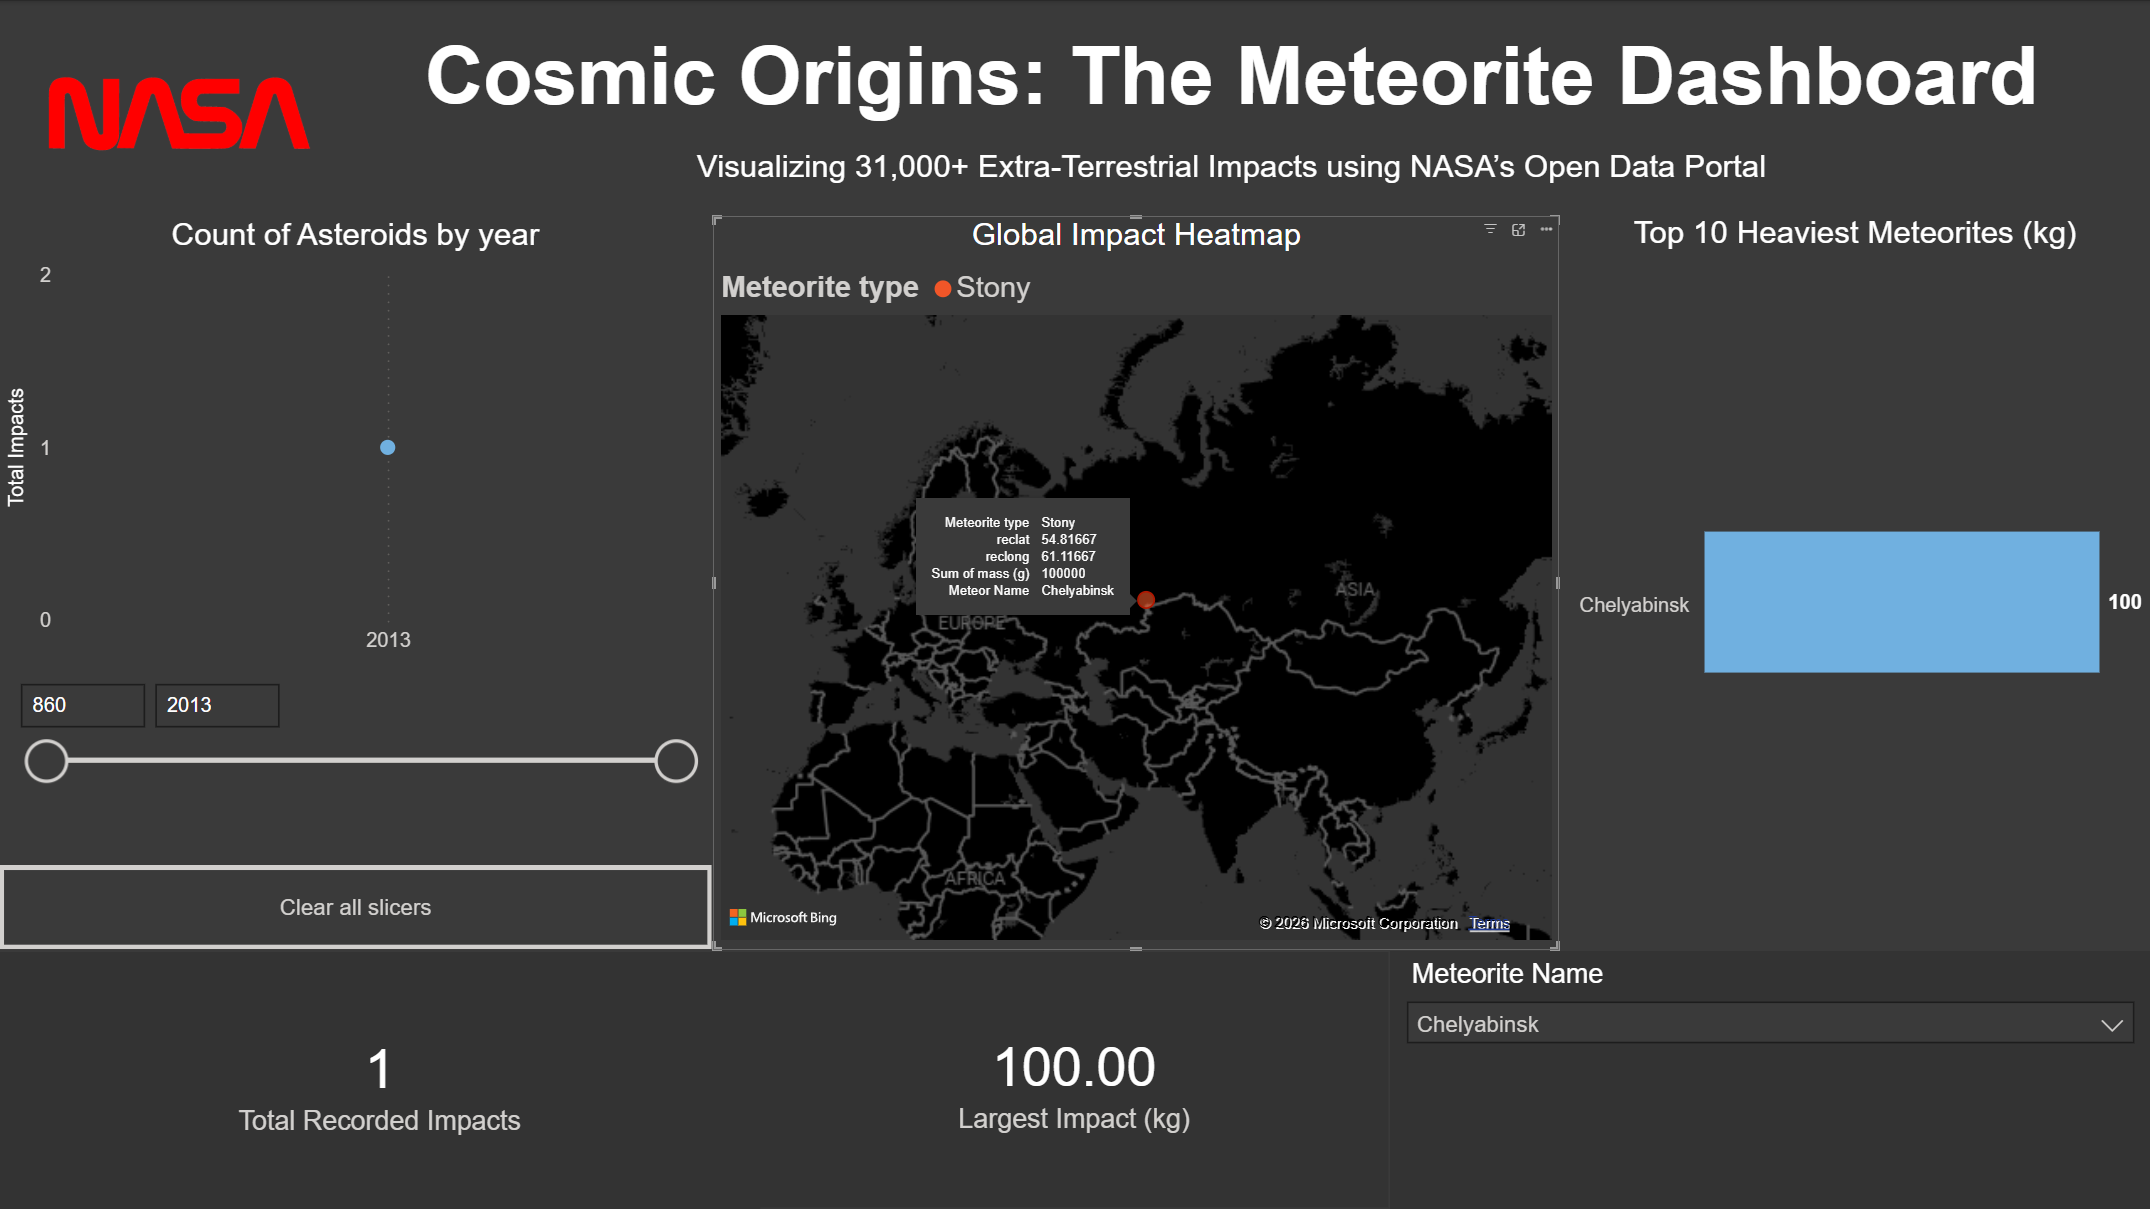

This screenshot's page, from the dashboard's own definition file:
{"tool":"powerbi","page":{"name":"Page 1","canvas":[1280,720],"ordinal":0},"visuals":[{"type":"map","title":"Global Impact Heatmap","fields":{"Y":["Meteorite_Landings.reclat"],"X":["Meteorite_Landings.reclong"],"Size":["Sum(Meteorite_Landings.mass (g))"],"Series":["Meteorite_Landings.Meteorite type"]},"box":[424.6,128,503.9,436.8],"z":0},{"type":"card","fields":{"Values":["Count(Meteorite_Landings.name)"]},"box":[0,565.8,453.1,154.4],"z":1000},{"type":"areaChart","title":"Count of Asteroids by year","fields":{"Category":["Meteorite_Landings.year"],"Y":["CountNonNull(Meteorite_Landings.name)"]},"box":[0,127.9,424.3,268.4],"z":2000},{"type":"slicer","title":"Year Slicer","fields":{"Values":["Meteorite_Landings.year"]},"box":[0,396.3,424.3,118.4],"z":3000},{"type":"actionButton","box":[0,514,424.5,50.4],"z":4000},{"type":"card","fields":{"Values":["Meteorite_Landings.Largest Impact (kg)"]},"box":[453.1,565.8,373.8,152.4],"z":5000},{"type":"textbox","box":[186.9,12.5,1093.1,115],"z":6000},{"type":"slicer","fields":{"Values":["Meteorite_Landings.name"]},"box":[827.5,565,452.5,154.4],"z":7000},{"type":"image","box":[28.6,7.7,158.3,119],"z":8000},{"type":"clusteredBarChart","title":"Top 10 Heaviest Meteorites (kg)","fields":{"Category":["Meteorite_Landings.name"],"Y":["Meteorite_Landings.Largest Impact (kg)"]},"box":[928.7,126.9,351.3,437.5],"z":9000}]}

Visuals, with their boxes in screenshot pixels (x1, y1, x2, y2), scaled from the page's 1280x720 canvas onto the 2150x1209 screenshot:
"Global Impact Heatmap" map: 713:215:1560:948
card - Count(Meteorite_Landings.name): 0:950:761:1208
"Count of Asteroids by year" areaChart: 0:215:713:665
"Year Slicer" slicer: 0:665:713:864
actionButton: 0:863:713:948
card - Meteorite_Landings.Largest Impact (kg): 761:950:1389:1206
textbox: 314:21:2149:214
slicer - Meteorite_Landings.name: 1390:949:2149:1208
image: 48:13:314:213
"Top 10 Heaviest Meteorites (kg)" clusteredBarChart: 1560:213:2149:948
